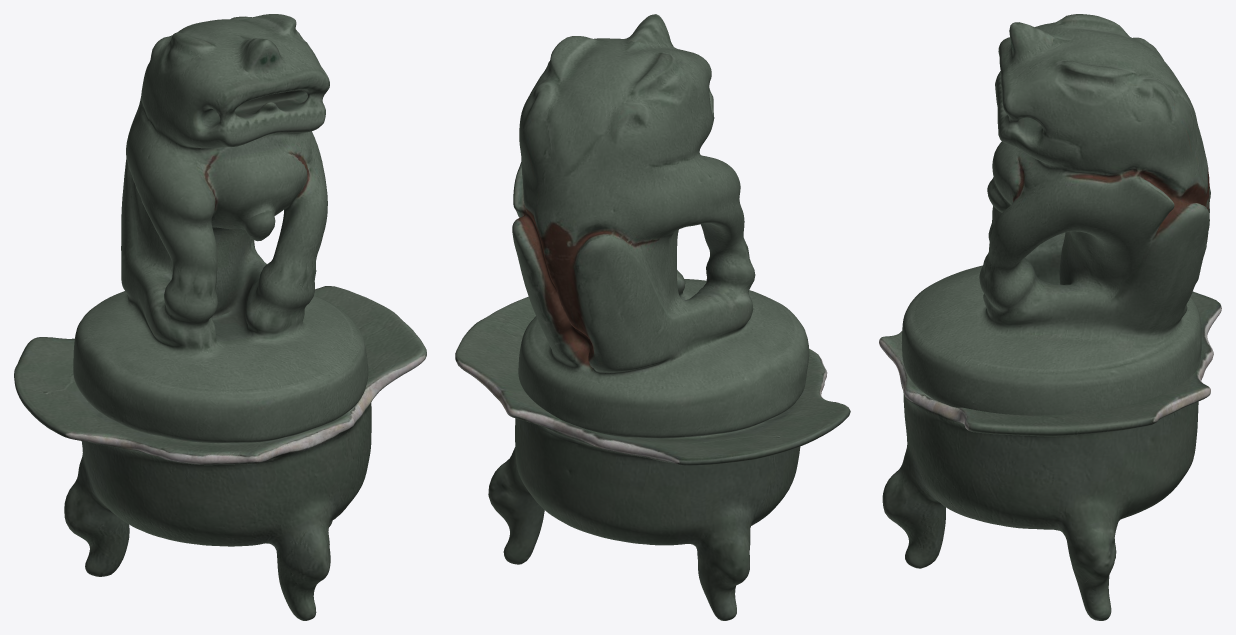
Rendered from lion.glb.
3 renders of one model, left to right at view 1: azimuth 30°, elevation 25°; view 2: azimuth 150°, elevation 25°; view 3: azimuth 270°, elevation 25°, orthographic.
Visible parts, largest first — view 1: top_lion, bottom_burner; view 2: top_lion, bottom_burner; view 3: top_lion, bottom_burner.
Boxes of the visible parts, x1=… form: top_lion: x1=73, y1=14, x2=368, y2=443; bottom_burner: x1=14, y1=286, x2=426, y2=620; top_lion: x1=512, y1=14, x2=809, y2=438; bottom_burner: x1=455, y1=296, x2=850, y2=620; top_lion: x1=901, y1=14, x2=1210, y2=415; bottom_burner: x1=879, y1=291, x2=1221, y2=620.
Bounding box in the file's own units: 0.2984 × 0.4336 × 0.2458.
2 materials, 2 textured.
